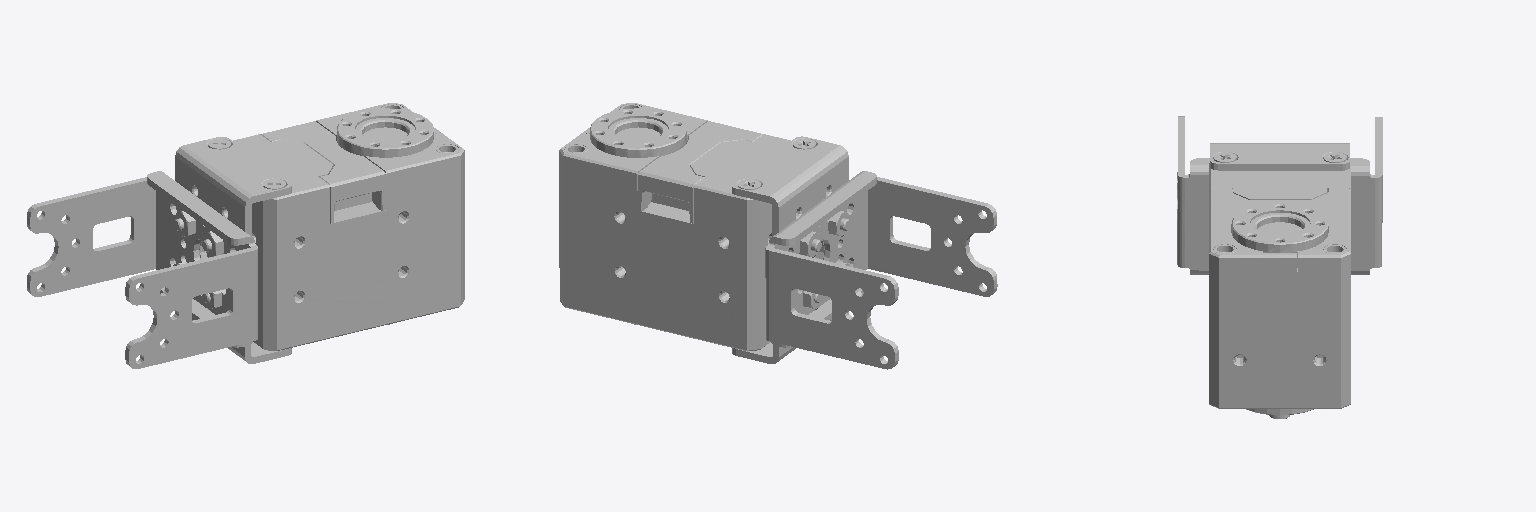
3 renders of one model, left to right at view 1: azimuth 30°, elevation 25°; view 2: azimuth 150°, elevation 25°; view 3: azimuth 270°, elevation 25°, orthographic.
Parts seen in each view (by area): view 1: link_1; view 2: link_1; view 3: link_1.
Boxes of the visible parts, x1=… form: link_1: x1=27, y1=103, x2=464, y2=368; link_1: x1=559, y1=103, x2=997, y2=369; link_1: x1=1177, y1=116, x2=1382, y2=418.
Bounding box in the file's own units: 0.0823 × 0.0424 × 0.041.